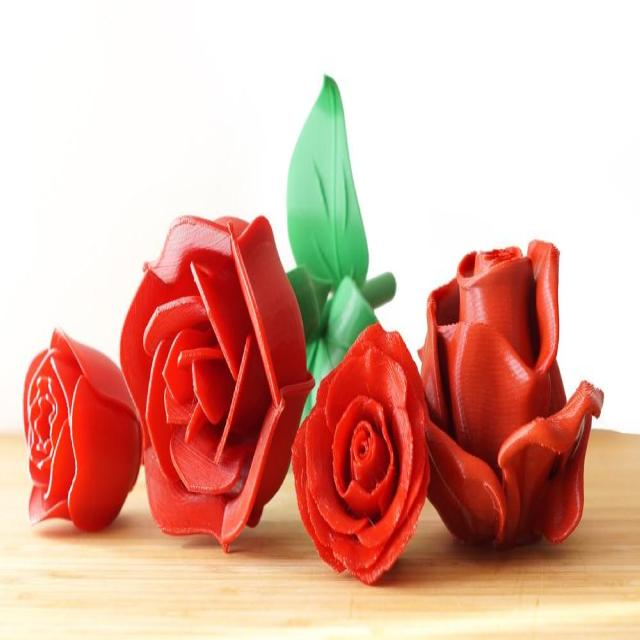Without deffect: (9, 52, 604, 596)
